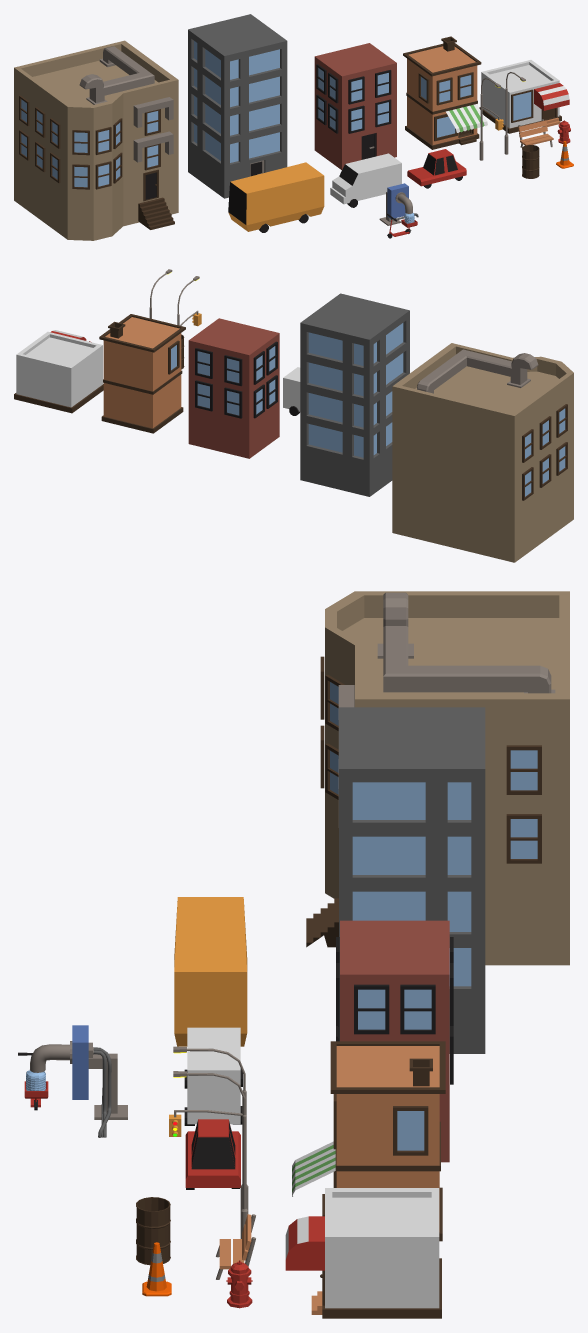
The model's file is gp1 assets.fbx.
3 views of the same model, one above another, from view 1: azimuth 30°, elevation 25°; view 2: azimuth 150°, elevation 25°; view 3: azimuth 270°, elevation 25° (orthographic). The views are drawn at different scales.
Parts seen in each view (by area): view 1: big house, tall apartment, medium apartment, small house, bus, kiosk, van, car, water machine, bench, barrel, lamp with traffic light (+1 smaller); view 2: big house, tall apartment, medium apartment, small house, kiosk, van; view 3: big house, tall apartment, small house, kiosk, medium apartment, bus, van, water machine, car, barrel, bench, lamp with traffic light (+3 smaller).
Boxes of the visible parts, x1,y1,x2,y2 form: big house: [14, 40, 178, 240]; tall apartment: [188, 14, 287, 198]; medium apartment: [314, 43, 396, 169]; small house: [403, 36, 487, 149]; bus: [228, 162, 324, 232]; kiosk: [479, 60, 569, 133]; van: [330, 153, 401, 207]; car: [407, 149, 466, 188]; water machine: [379, 183, 418, 225]; bench: [518, 119, 553, 147]; barrel: [522, 145, 539, 178]; lamp with traffic light: [479, 78, 503, 160]; big house: [392, 343, 573, 562]; tall apartment: [300, 293, 409, 496]; medium apartment: [188, 318, 279, 458]; small house: [99, 314, 185, 433]; kiosk: [14, 330, 103, 413]; van: [283, 367, 300, 415]; big house: [306, 591, 569, 965]; tall apartment: [339, 707, 485, 1053]; small house: [292, 1041, 445, 1241]; kiosk: [285, 1188, 441, 1318]; medium apartment: [336, 920, 453, 1162]; bus: [174, 897, 247, 1046]; van: [184, 1027, 242, 1125]; water machine: [30, 1025, 127, 1137]; car: [185, 1119, 240, 1189]; barrel: [136, 1197, 170, 1265]; bench: [216, 1214, 255, 1279]; lamp with traffic light: [169, 1046, 248, 1209].
Bounding box in the file's own units: 3958 × 1164 × 1940.
